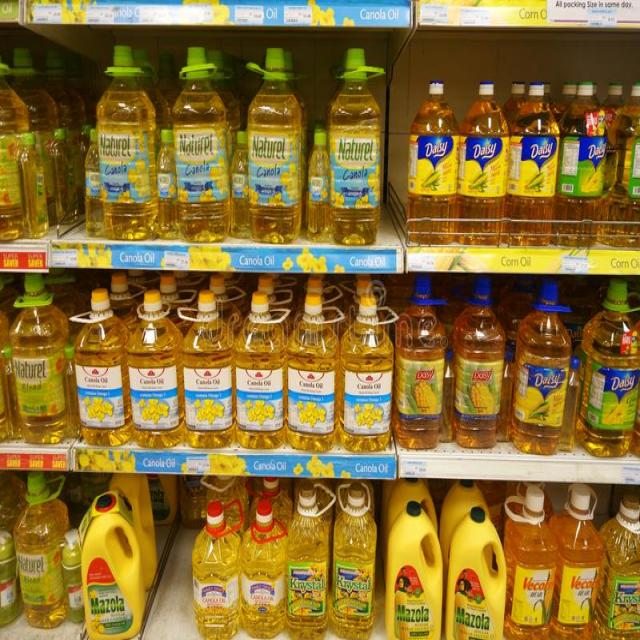oil: (408, 82, 579, 246), (392, 274, 525, 456), (300, 43, 390, 250), (502, 484, 604, 633), (86, 47, 161, 245), (237, 48, 308, 243), (161, 48, 231, 245), (2, 274, 78, 448), (122, 282, 189, 451), (513, 281, 576, 454), (180, 280, 245, 447), (284, 282, 348, 451), (581, 279, 640, 461), (79, 488, 148, 640), (232, 293, 296, 453), (74, 287, 135, 450), (340, 286, 397, 454), (12, 479, 73, 633), (229, 490, 293, 634), (446, 492, 508, 640), (390, 497, 445, 640), (329, 485, 378, 638), (286, 485, 336, 633), (192, 503, 246, 640), (602, 488, 640, 634), (561, 85, 606, 203)
